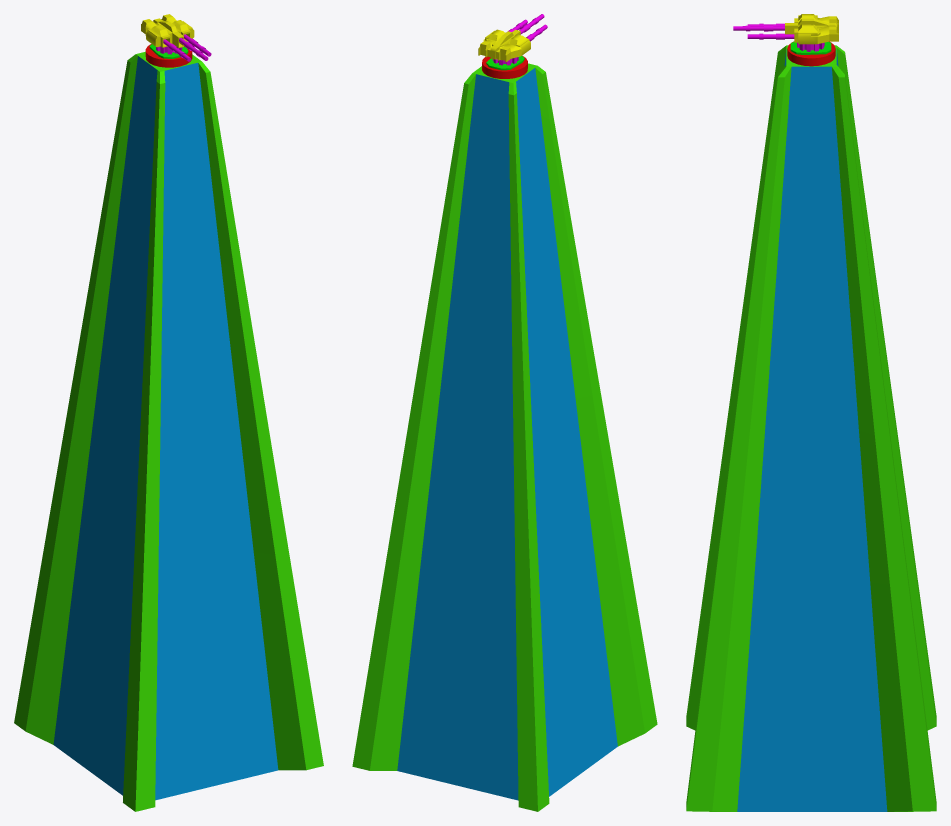
File: Tower Turret Tester 1 - Owen.fbx
The picture shows the model from 3 angles, left to right: view 1: azimuth 30°, elevation 25°; view 2: azimuth 150°, elevation 25°; view 3: azimuth 270°, elevation 25°; orthographic projection. The views are drawn at different scales.
Visible parts, largest first — view 1: Tower, Turret_Body; view 2: Tower, Turret_Body; view 3: Tower, Turret_Body, Turn_Table_Cylinder.
Part boxes in pixels (bbox=[...]): Tower: bbox=[14, 51, 323, 811]; Turret_Body: bbox=[141, 14, 194, 47]; Tower: bbox=[352, 63, 657, 811]; Turret_Body: bbox=[478, 29, 530, 61]; Tower: bbox=[686, 45, 936, 811]; Turret_Body: bbox=[785, 14, 838, 44]; Turn_Table_Cylinder: bbox=[787, 41, 835, 66].
Bounding box in the file's own units: 878 × 3247 × 979.
